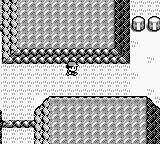main: (66, 62, 79, 75)
no-caminable: (3, 1, 129, 64), (35, 97, 159, 143), (131, 16, 159, 31)
salto: (2, 120, 33, 127)
